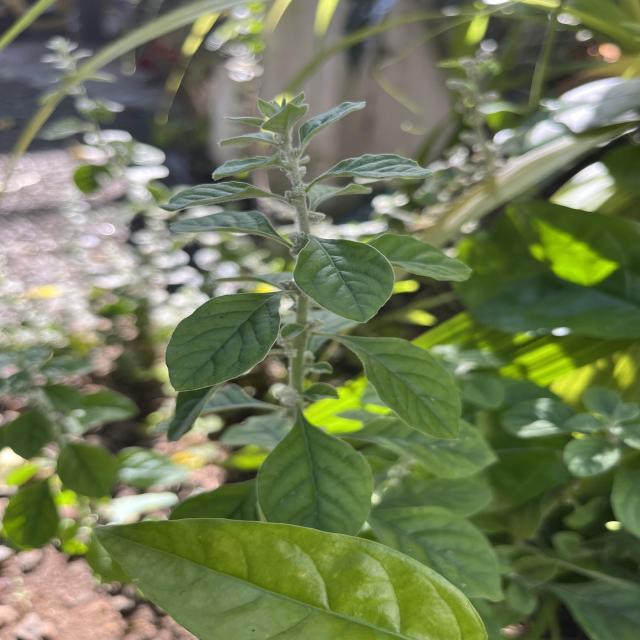Aerva lanata: (162, 288, 284, 394), (290, 234, 398, 326)
